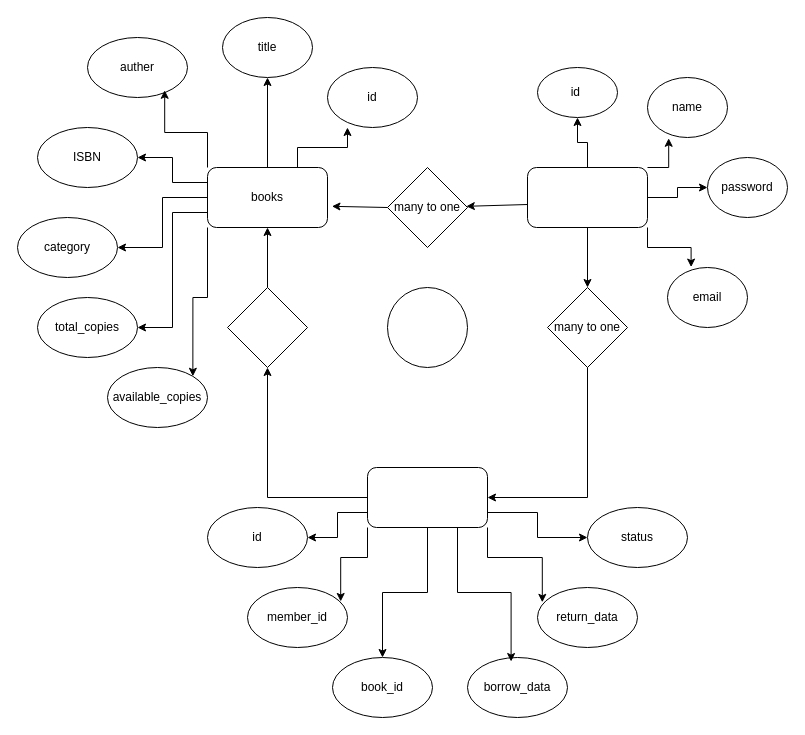
Image size: 805x735. Some labels were removed from this diagram. The shapes that lost their labels are listed below. From the top down, each one's centre as x and y in pixels, then its label:
[587,197]: member / users
[267,327]: one to one
[427,327]: library
[427,497]: loan
